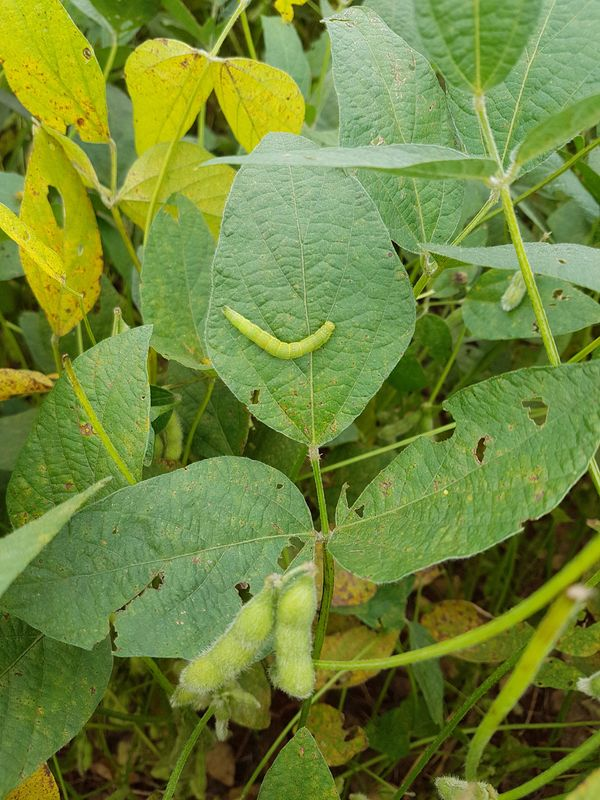Anticarsia_gemmatalis: (212, 293, 342, 378)
